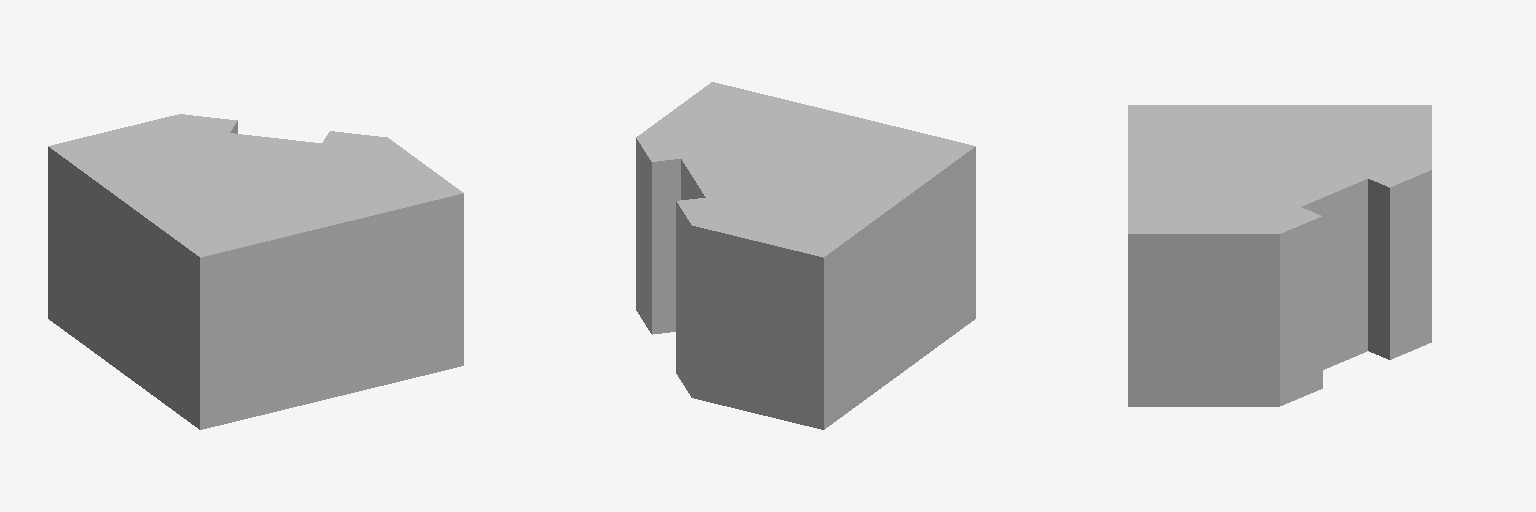
Rendered from building_048.obj.
The picture shows the model from 3 angles: view 1: azimuth 30°, elevation 25°; view 2: azimuth 150°, elevation 25°; view 3: azimuth 270°, elevation 25°; orthographic projection.
Parts seen in each view (by area): view 1: building_048; view 2: building_048; view 3: building_048.
Boxes of the visible parts, x1,y1,x2,y2 form: building_048: [48, 114, 463, 429]; building_048: [636, 82, 975, 429]; building_048: [1128, 105, 1431, 406].
Size of the model in its own units: 1 by 0.625 by 1.